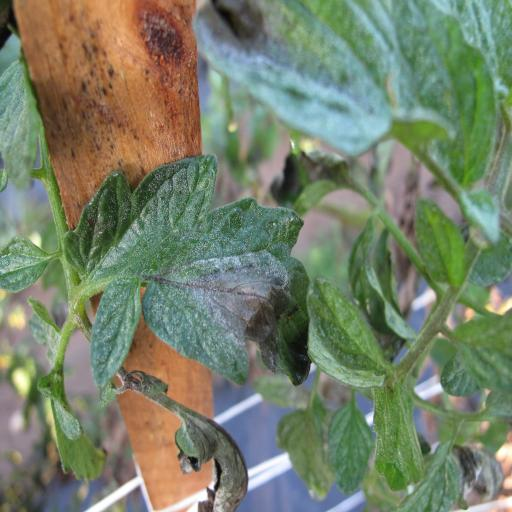disease_tomato: (46, 149, 344, 417)
